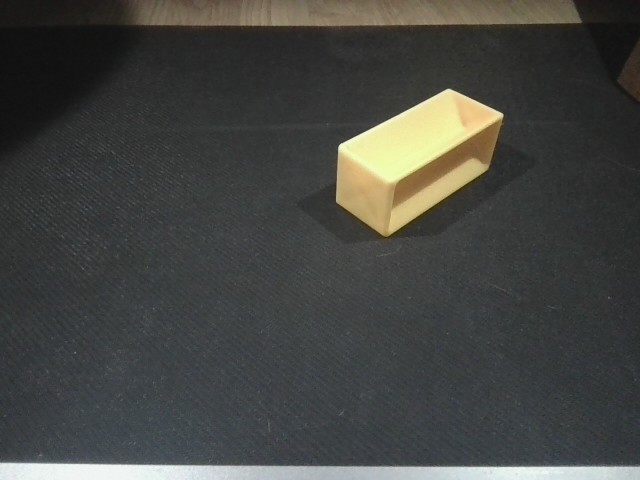YellowSample: (331, 83, 506, 241)
